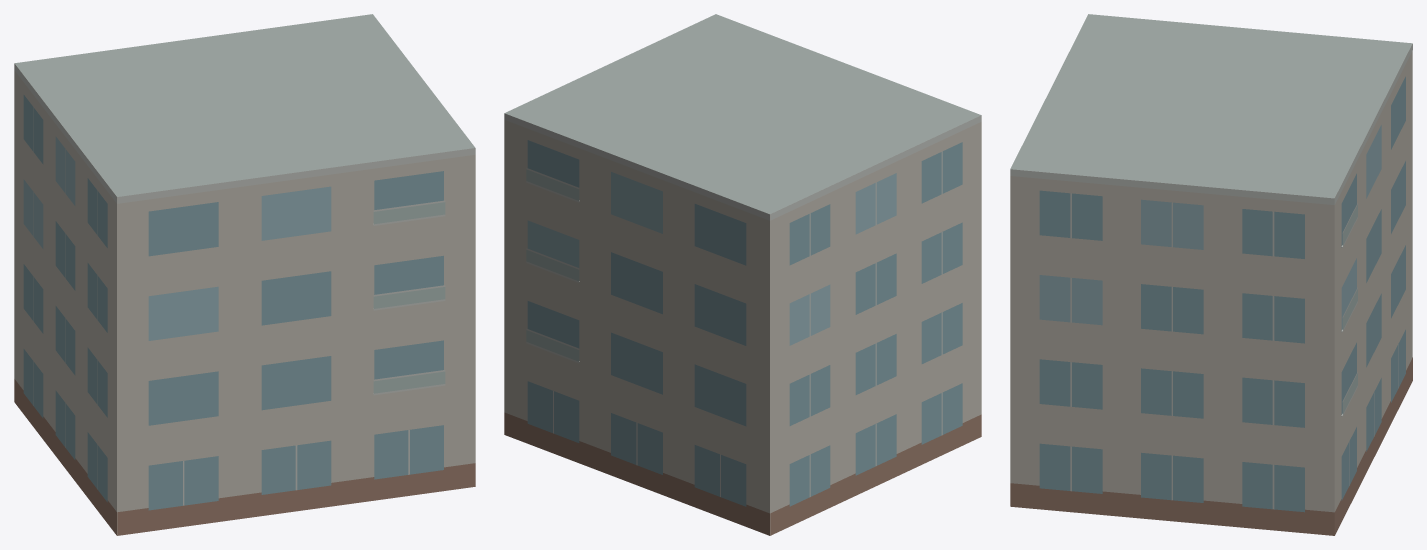
File: residential-4def3921-3f39-4c8c-9d64-9a4579c47b4f.glb
3 renders of one model, left to right at view 1: azimuth 30°, elevation 25°; view 2: azimuth 150°, elevation 25°; view 3: azimuth 270°, elevation 25°, orthographic. The views are drawn at different scales.
Parts seen in each view (by area): view 1: residential-4def3921-3f39-4c8c-9d64-9a4579c47b4f.tmp; view 2: residential-4def3921-3f39-4c8c-9d64-9a4579c47b4f.tmp; view 3: residential-4def3921-3f39-4c8c-9d64-9a4579c47b4f.tmp.
Boxes of the visible parts, <box> form: residential-4def3921-3f39-4c8c-9d64-9a4579c47b4f.tmp: <box>14,14,475,535</box>; residential-4def3921-3f39-4c8c-9d64-9a4579c47b4f.tmp: <box>504,14,981,535</box>; residential-4def3921-3f39-4c8c-9d64-9a4579c47b4f.tmp: <box>1010,14,1412,535</box>.
Size of the model in its own units: 14.31 by 12.2 by 13.2.
